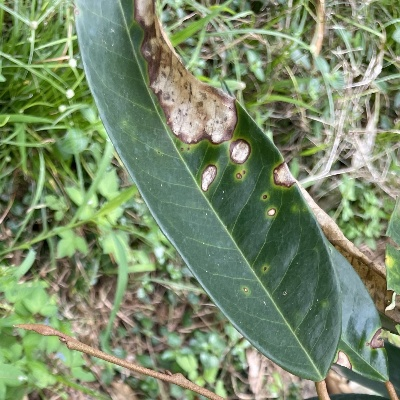Leaf_Phomopsis: (66, 0, 398, 397)
